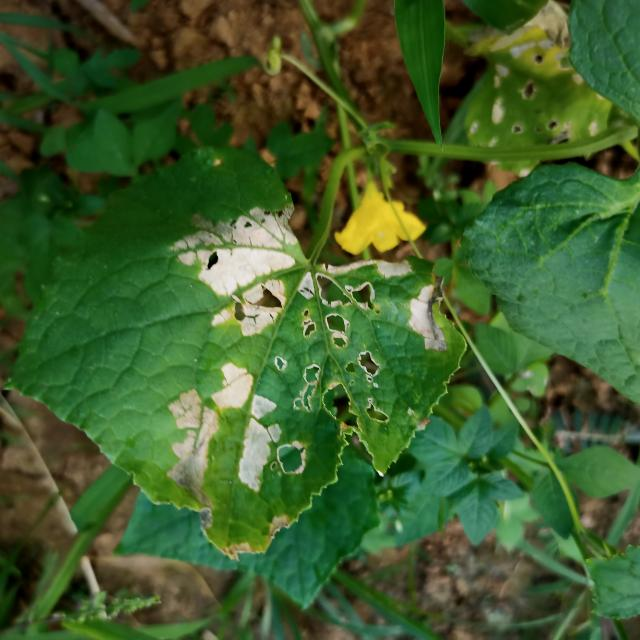disease_cucumber: (165, 347, 385, 565), (160, 192, 447, 352)
